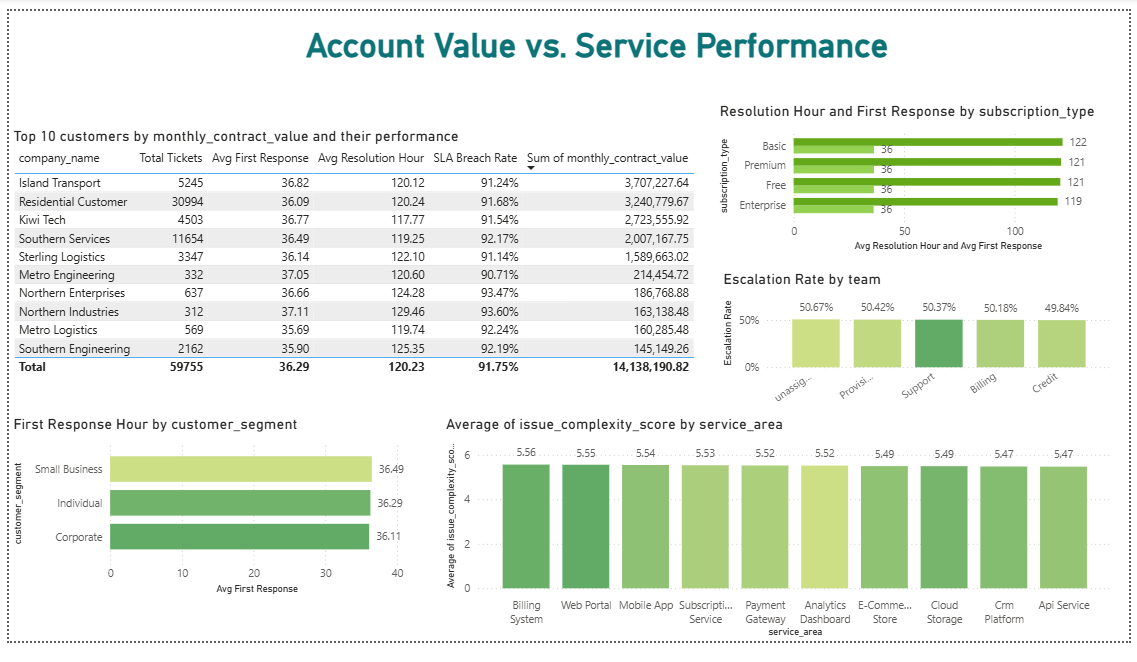

Layout of this report page (visuals, bound fields, positions):
{"tool":"powerbi","page":{"name":"Service","canvas":[1280,720],"ordinal":3},"visuals":[{"type":"barChart","title":"First Response Hour by customer_segment","fields":{"Category":["Tickets.customer_segment"],"Y":["Tickets.Avg First Response"]},"box":[0,461.1,463.8,209.9],"z":0},{"type":"clusteredBarChart","title":"Resolution Hour and First Response by subscription_type","fields":{"Category":["Tickets.subscription_type"],"Y":["Tickets.Avg Resolution Hour","Tickets.Avg First Response"]},"box":[806.9,104.3,458.3,175.6],"z":1000},{"type":"columnChart","title":"Average of issue_complexity_score by service_area","fields":{"Category":["Tickets.service_area"],"Y":["Avg(Tickets.issue_complexity_score)"]},"box":[494,461.1,771.2,259.3],"z":2000},{"type":"tableEx","title":"Top 10 customers by monthly_contract_value and their performance","fields":{"Values":["Tickets.company_name","Tickets.Total Tickets","Tickets.Avg First Response","Tickets.Avg Resolution Hour","Tickets.SLA Breach Rated","Sum(Tickets.monthly_contract_value)"]},"box":[0,133.1,806.9,293.7],"z":3000},{"type":"textbox","box":[100.2,11,1144.4,65.9],"z":4000},{"type":"clusteredColumnChart","fields":{"Y":["Tickets.Escalation Rate"],"Category":["Tickets.team"]},"box":[811,296.4,454.2,164.7],"z":5000}]}

Visuals, with their boxes on the page's 1280x720 design canvas (x1, y1, x2, y2). These are canvas units, not pixel positions in the 1137x662 screenshot, which may show the page scaled, cropped or inside an application window:
"First Response Hour by customer_segment" barChart: detection(0, 461, 464, 671)
"Resolution Hour and First Response by subscription_type" clusteredBarChart: detection(807, 104, 1265, 280)
"Average of issue_complexity_score by service_area" columnChart: detection(494, 461, 1265, 720)
"Top 10 customers by monthly_contract_value and their performance" tableEx: detection(0, 133, 807, 427)
textbox: detection(100, 11, 1245, 77)
clusteredColumnChart - Tickets.Escalation Rate x Tickets.team: detection(811, 296, 1265, 461)
